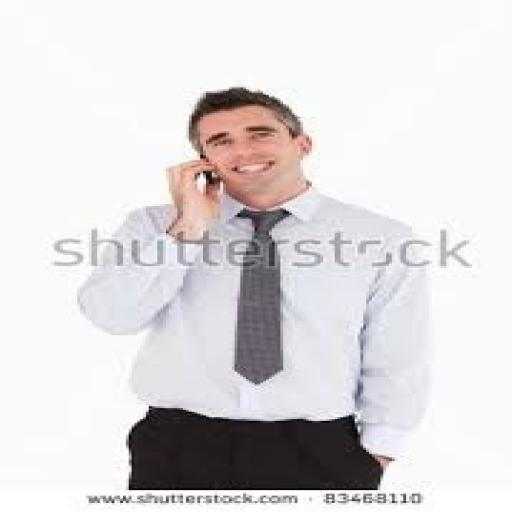calling: (72, 86, 438, 490)
